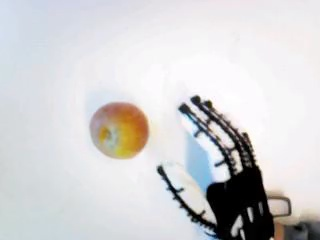apple: (90, 102, 150, 160)
hand: (157, 94, 274, 238)
